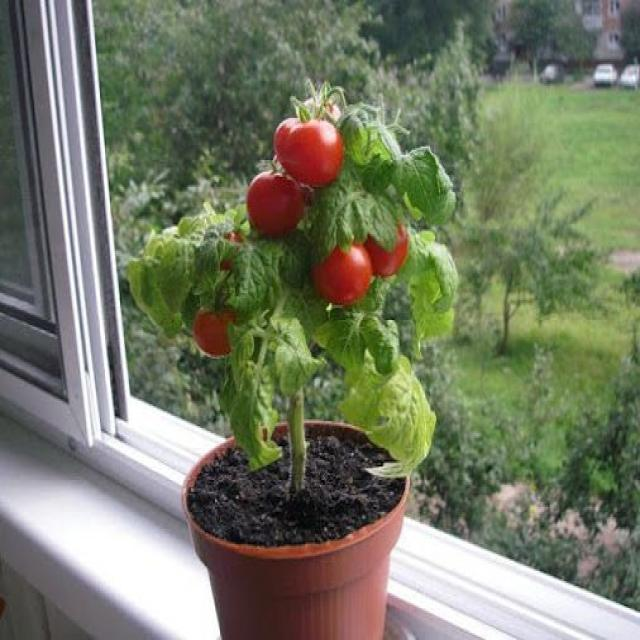level 6: (186, 231, 271, 355), (274, 114, 344, 188), (307, 236, 372, 305), (242, 170, 304, 242), (354, 209, 412, 280)
